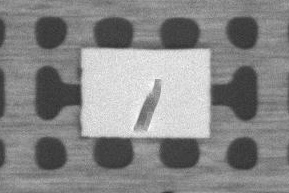DIE_INK: (132, 78, 164, 135)
